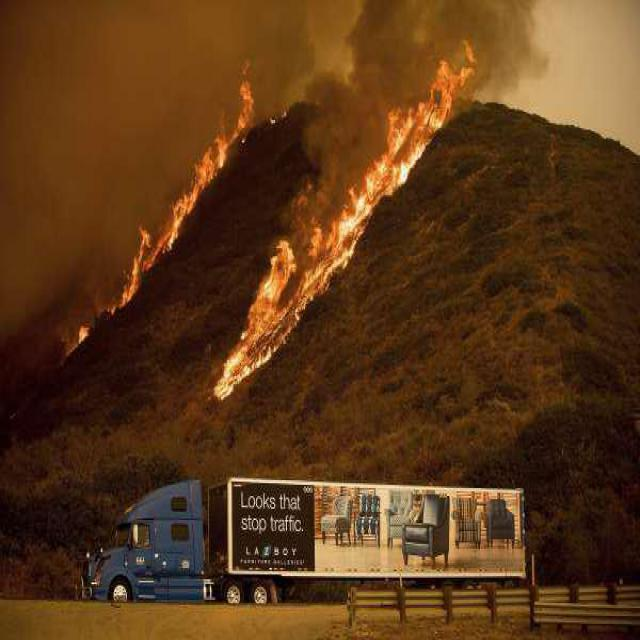Fire: (92, 49, 487, 398)
